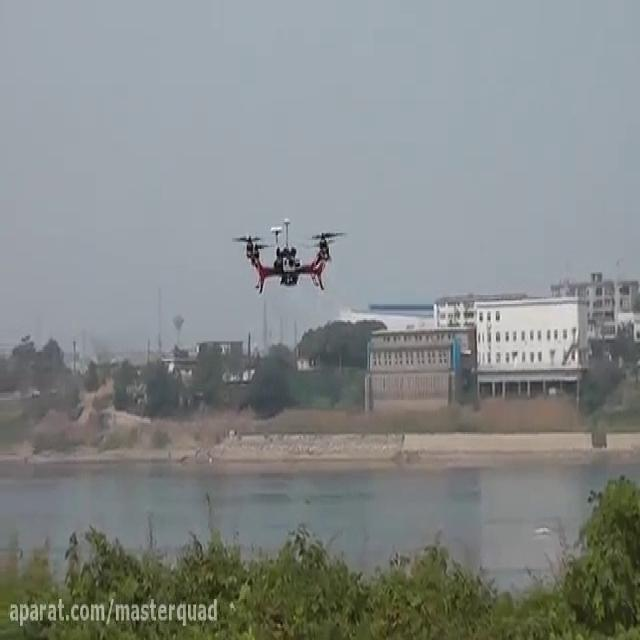drone: (228, 208, 351, 295)
